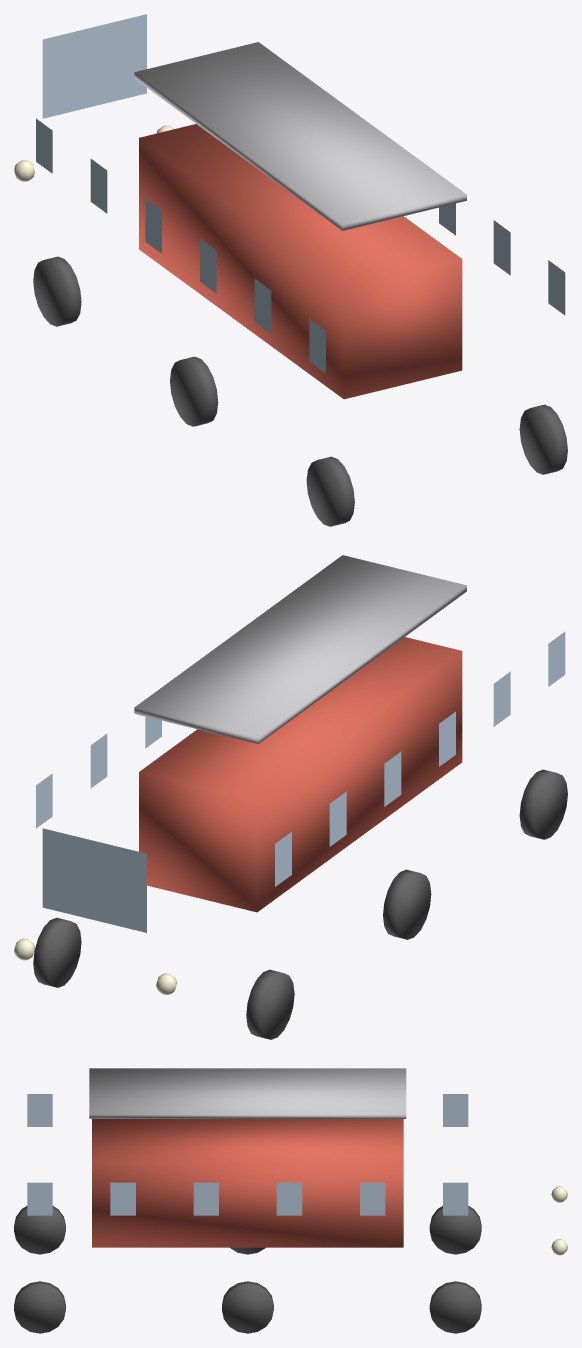
The model's file is mesh_city_bus.fbx.
3 renders of one model, top to bottom at view 1: azimuth 30°, elevation 25°; view 2: azimuth 150°, elevation 25°; view 3: azimuth 270°, elevation 25°, orthographic. The views are drawn at different scales.
Parts seen in each view (by area): view 1: mesh_city_bus; view 2: mesh_city_bus; view 3: mesh_city_bus.
Part boxes in pixels (box(x1,y1,x2,y2)): mesh_city_bus: box(14, 14, 567, 526); mesh_city_bus: box(14, 555, 567, 1039); mesh_city_bus: box(14, 1068, 567, 1333).
Size of the model in its own units: 2.02 by 2.13 by 5.33.
